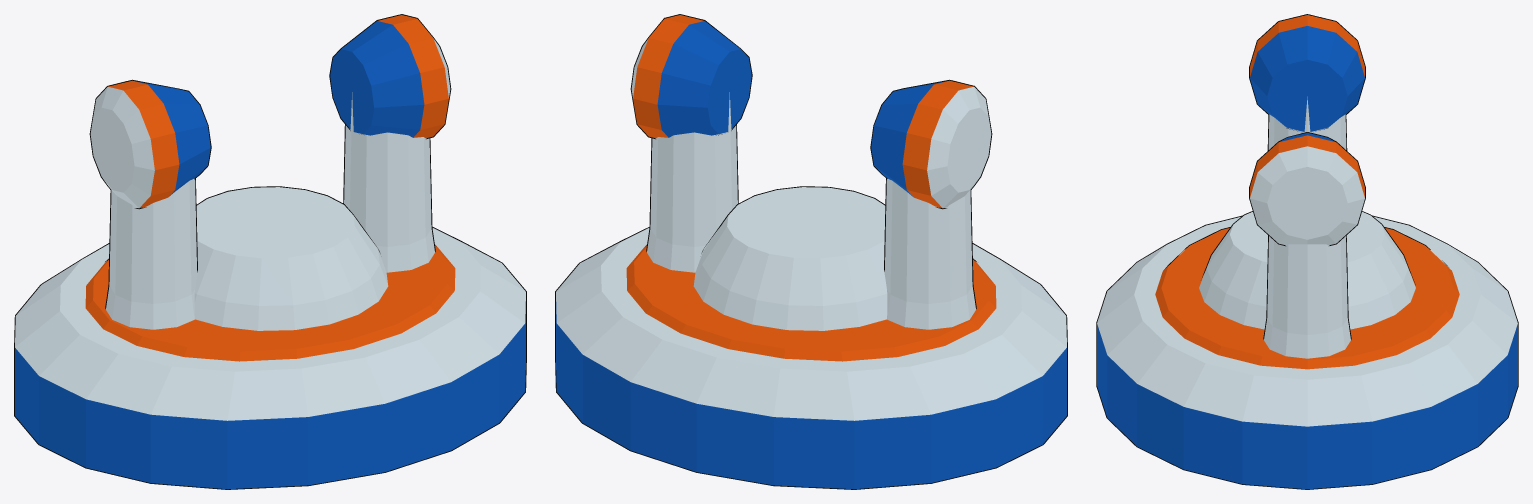
Rendered from CannonBase.glb.
3 renders of one model, left to right at view 1: azimuth 30°, elevation 25°; view 2: azimuth 150°, elevation 25°; view 3: azimuth 270°, elevation 25°, orthographic. The views are drawn at different scales.
Visible parts, largest first — view 1: CannonBase; view 2: CannonBase; view 3: CannonBase.
Boxes of the visible parts, x1,y1,x2,y2 form: CannonBase: (14, 14, 526, 489); CannonBase: (555, 14, 1067, 489); CannonBase: (1096, 14, 1518, 489).
Size of the model in its own units: 1.71 by 1.25 by 1.47.
